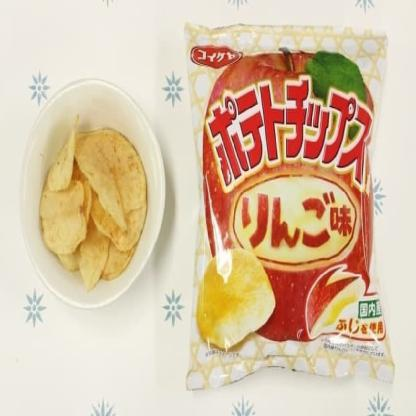potatochip: (178, 15, 398, 398)
